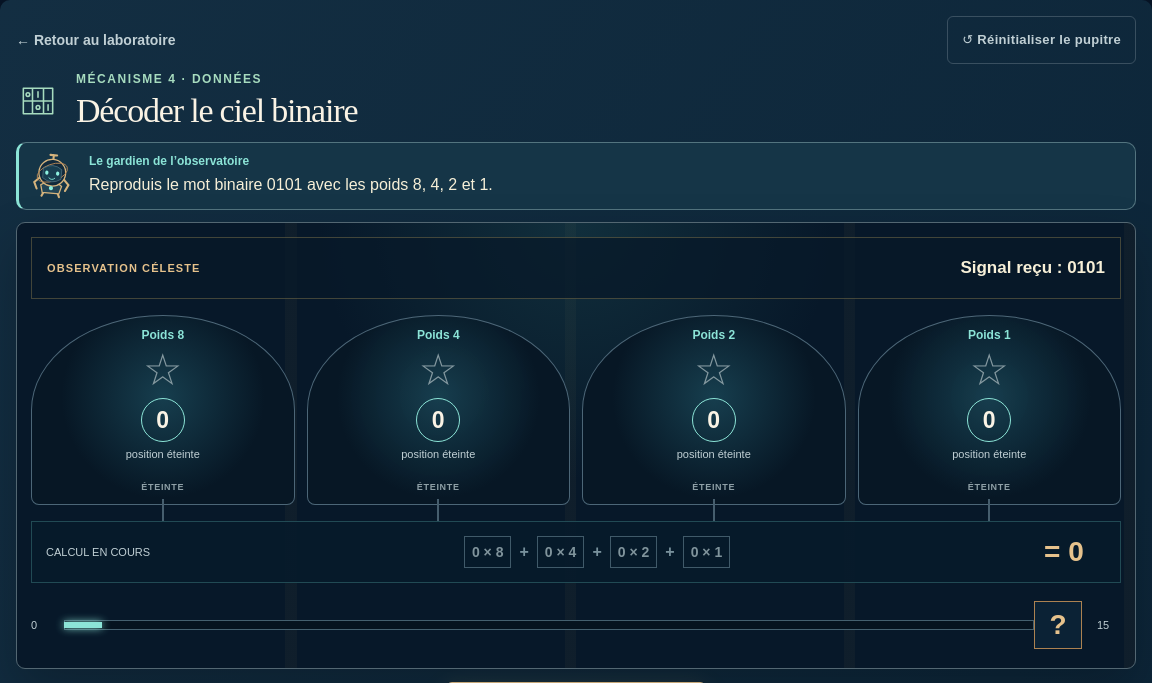
Test: mission Données › active et désactive un bit au clic
This screenshot has width=1152, height=683.
What coordinates should you click on to do the following:
click the button with aria-label "Poids 4, étoile éteinte"
I would click on:
 (438, 410)
Its box is [306, 316, 570, 506].
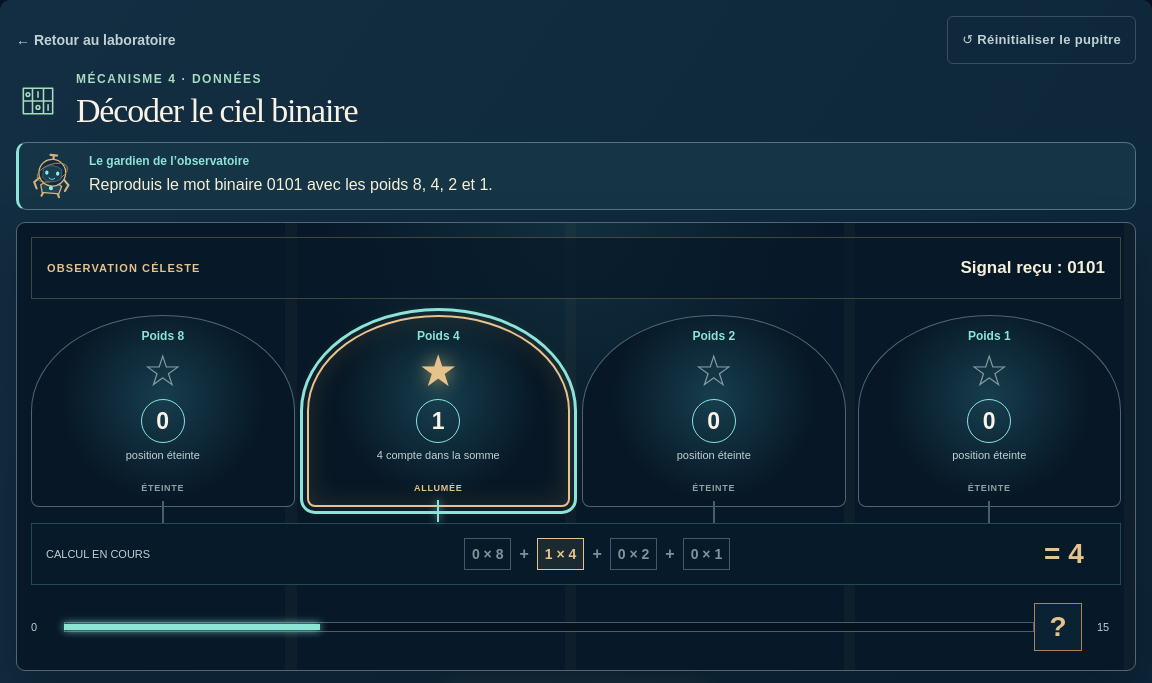
Expected: the button with aria-label "Poids 4, étoile allumée" is shown
What coordinates should you click on to do the following:
click the button with aria-label "Poids 4, étoile allumée"
I would click on:
 (438, 412)
Its box is [306, 316, 570, 508].
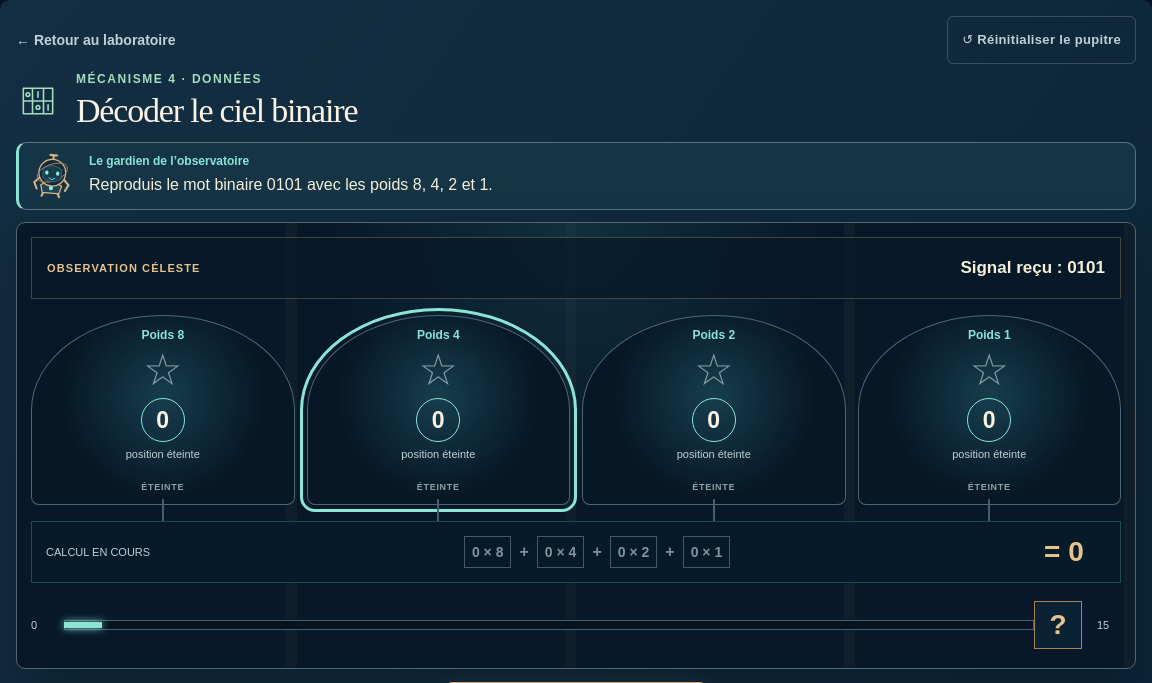
Expected: the button with aria-label "Poids 4, étoile éteinte" is shown, [306, 316, 570, 506]
